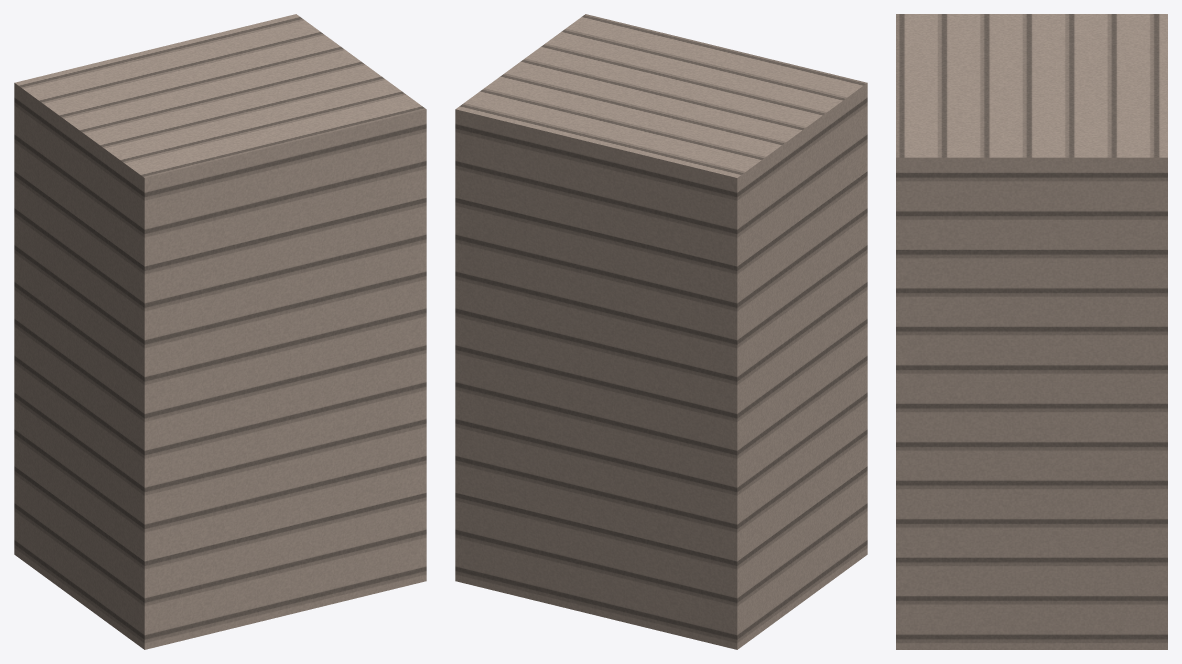
The model's file is boiler_unit.glb.
3 renders of one model, left to right at view 1: azimuth 30°, elevation 25°; view 2: azimuth 150°, elevation 25°; view 3: azimuth 270°, elevation 25°, orthographic. The views are drawn at different scales.
Parts seen in each view (by area): view 1: boiler_unit-col; view 2: boiler_unit-col; view 3: boiler_unit-col.
Part boxes in pixels (x1,y1,x2,y2): boiler_unit-col: (14, 14, 426, 649); boiler_unit-col: (455, 14, 867, 649); boiler_unit-col: (896, 14, 1167, 649).
Bounding box in the file's own units: 1 × 1.6 × 0.8.
Materials: 1 (1 with a texture image).
